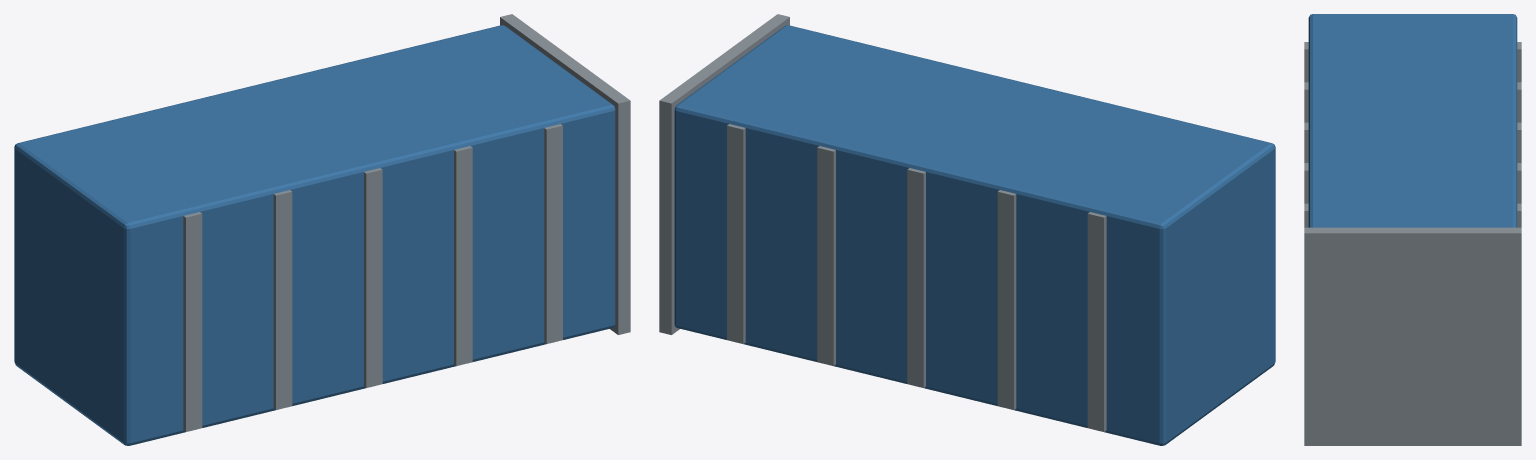
The model's file is container_1.glb.
3 views of the same model, side by side, from view 1: azimuth 30°, elevation 25°; view 2: azimuth 150°, elevation 25°; view 3: azimuth 270°, elevation 25° (orthographic). The views are drawn at different scales.
Parts seen in each view (by area): view 1: Cube; view 2: Cube; view 3: Cube.
Boxes of the visible parts, bbox=[...] form: Cube: bbox=[14, 14, 630, 445]; Cube: bbox=[659, 14, 1275, 445]; Cube: bbox=[1304, 14, 1521, 445].
Size of the model in its own units: 6.12 by 2.7 by 2.5.
